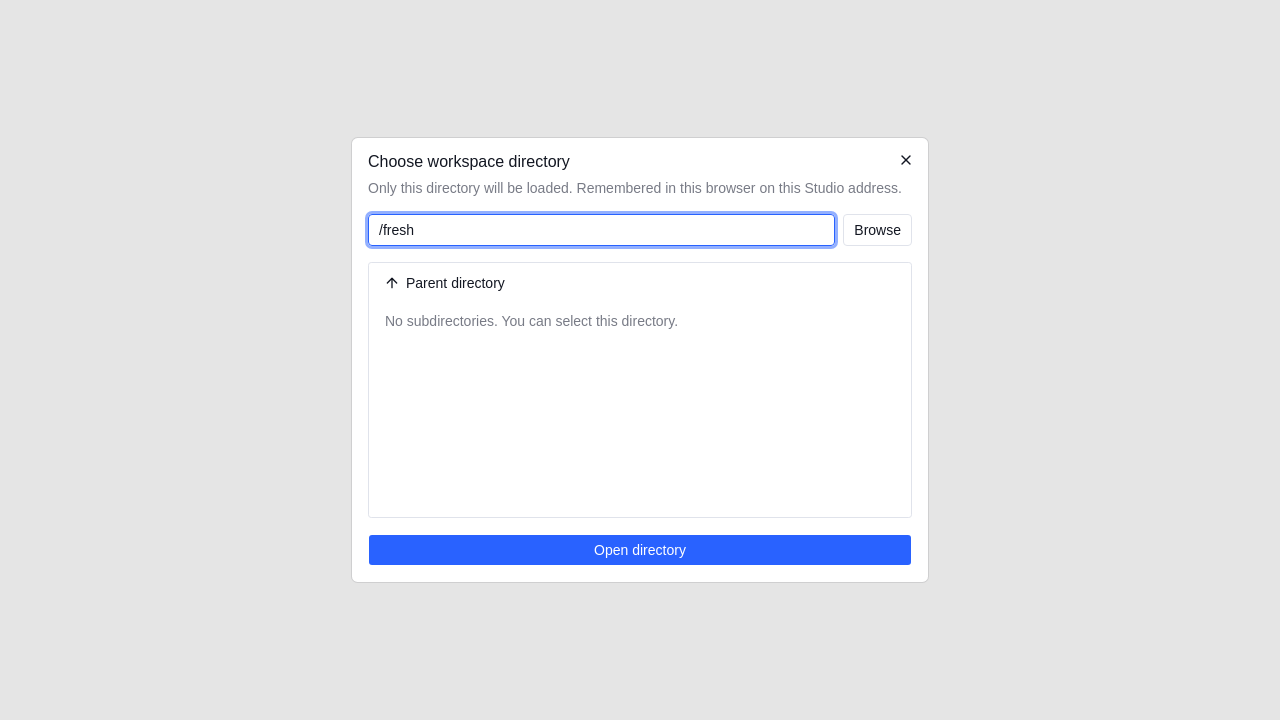
it: UI-W06: cancelled older directory requests cannot overwrite a later successful listing
The width and height of the screenshot is (1280, 720).
Check: the text "No subdirectories. You can select this directory." is shown, box [385,313,678,329]
Replace the text in the field named "Workspace directory path" with "/slow" at (602, 230), box [368,214,835,246]
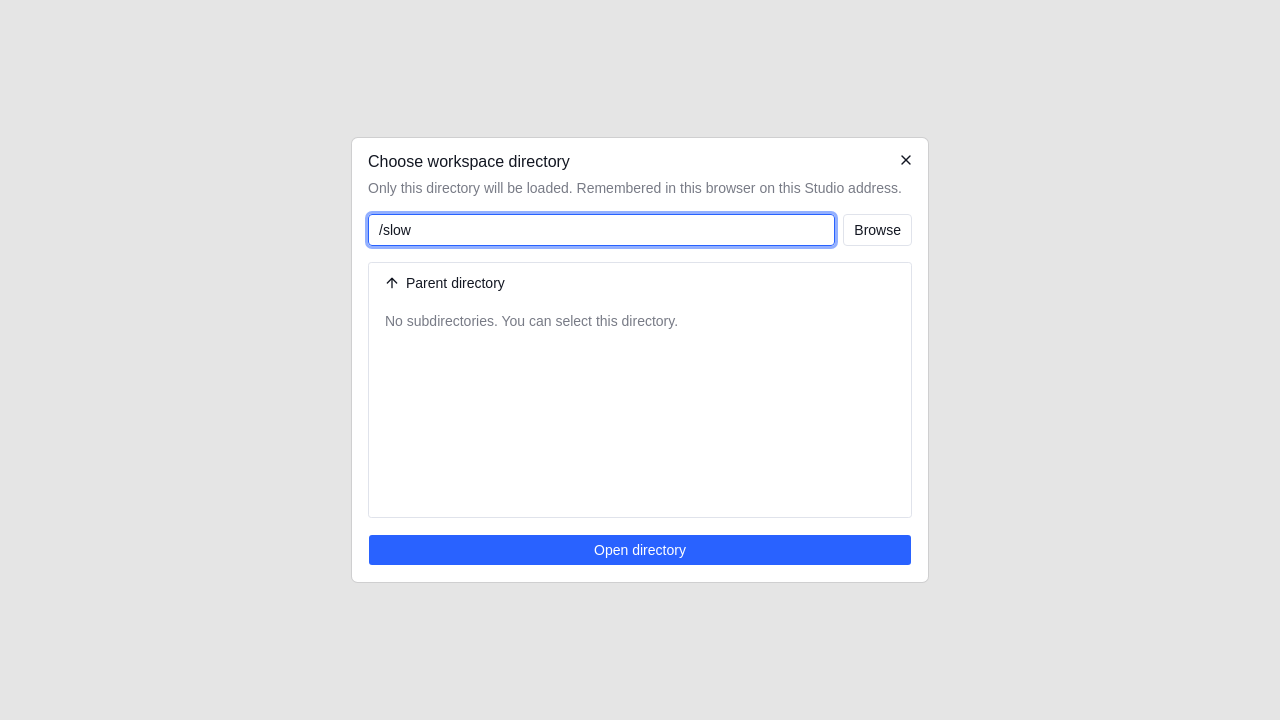
Submit the form named "Workspace directory path", box [368,214,912,246]
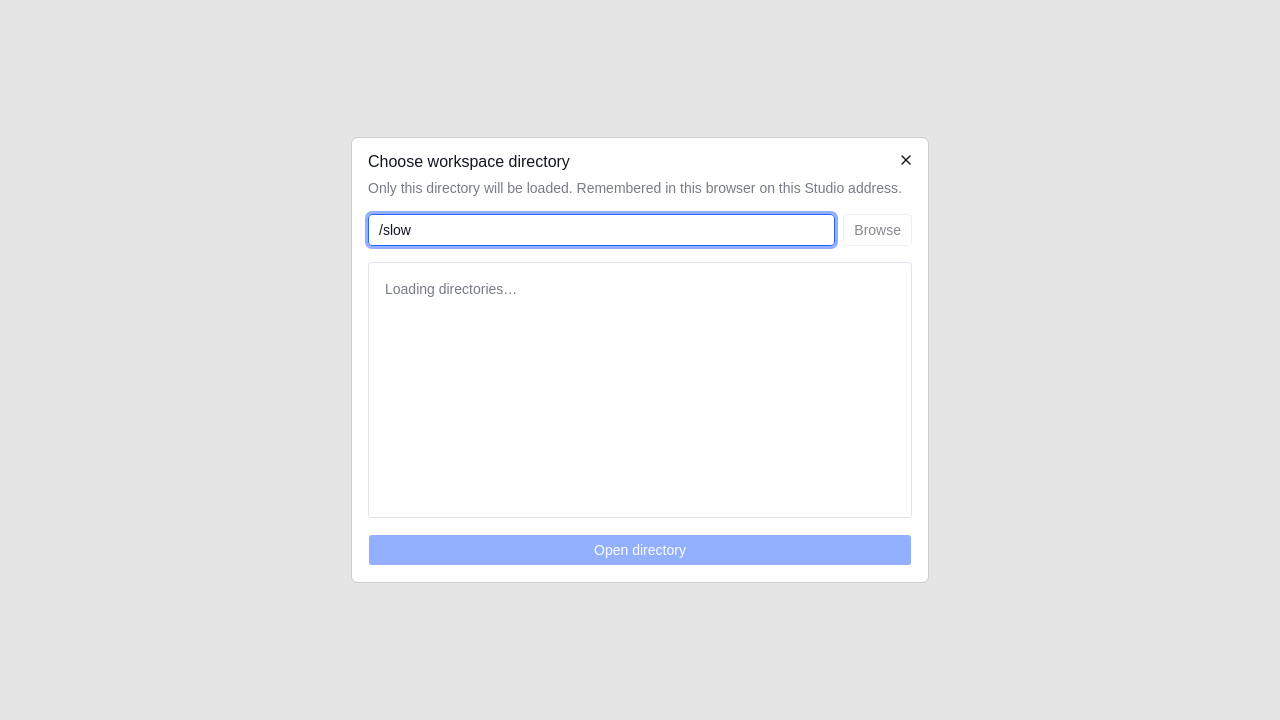
Replace the text in the field named "Workspace directory path" with "/fresh" at (602, 230), box [368,214,835,246]
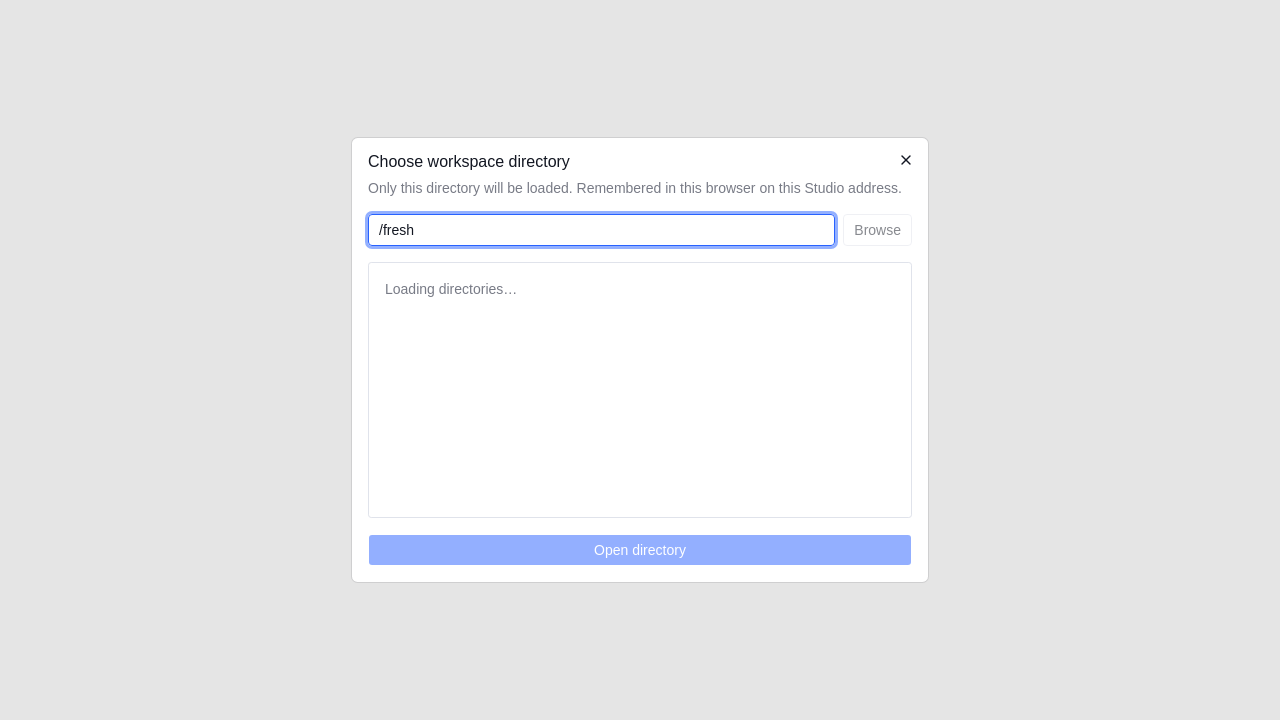
Submit the form named "Workspace directory path", box [368,214,912,246]
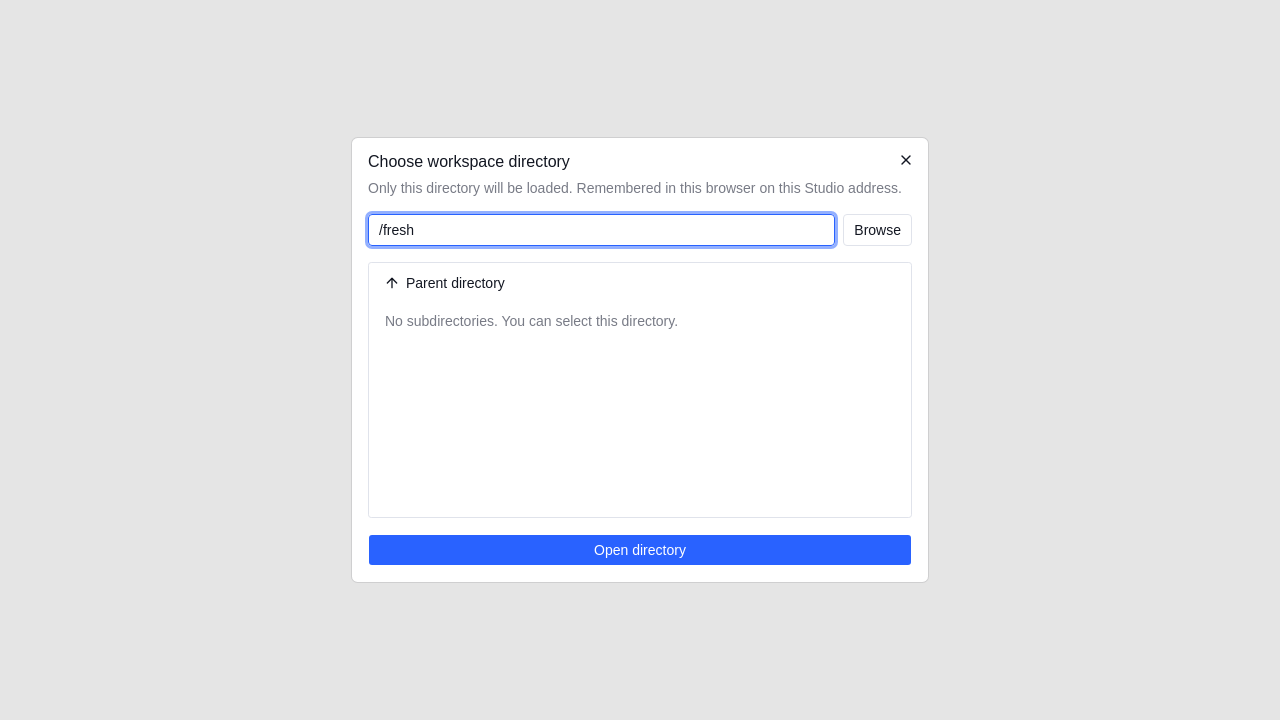
Check: the text "No subdirectories. You can select this directory." is shown, box [385,313,678,329]
